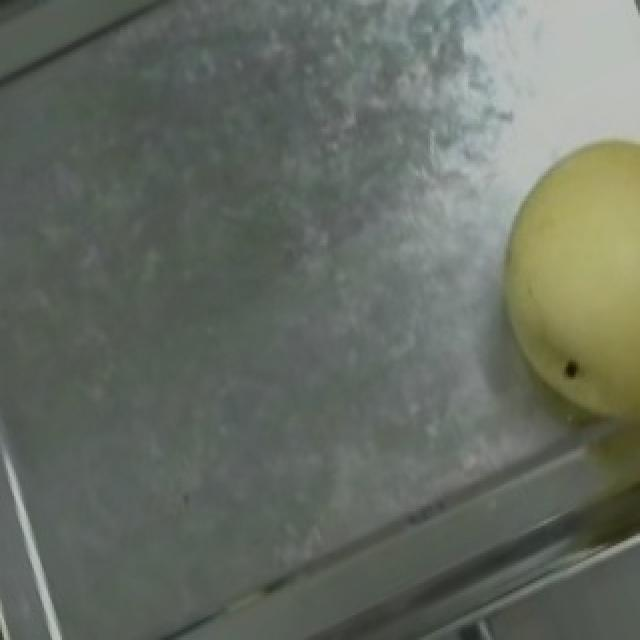Fruit: (450, 97, 640, 456)
